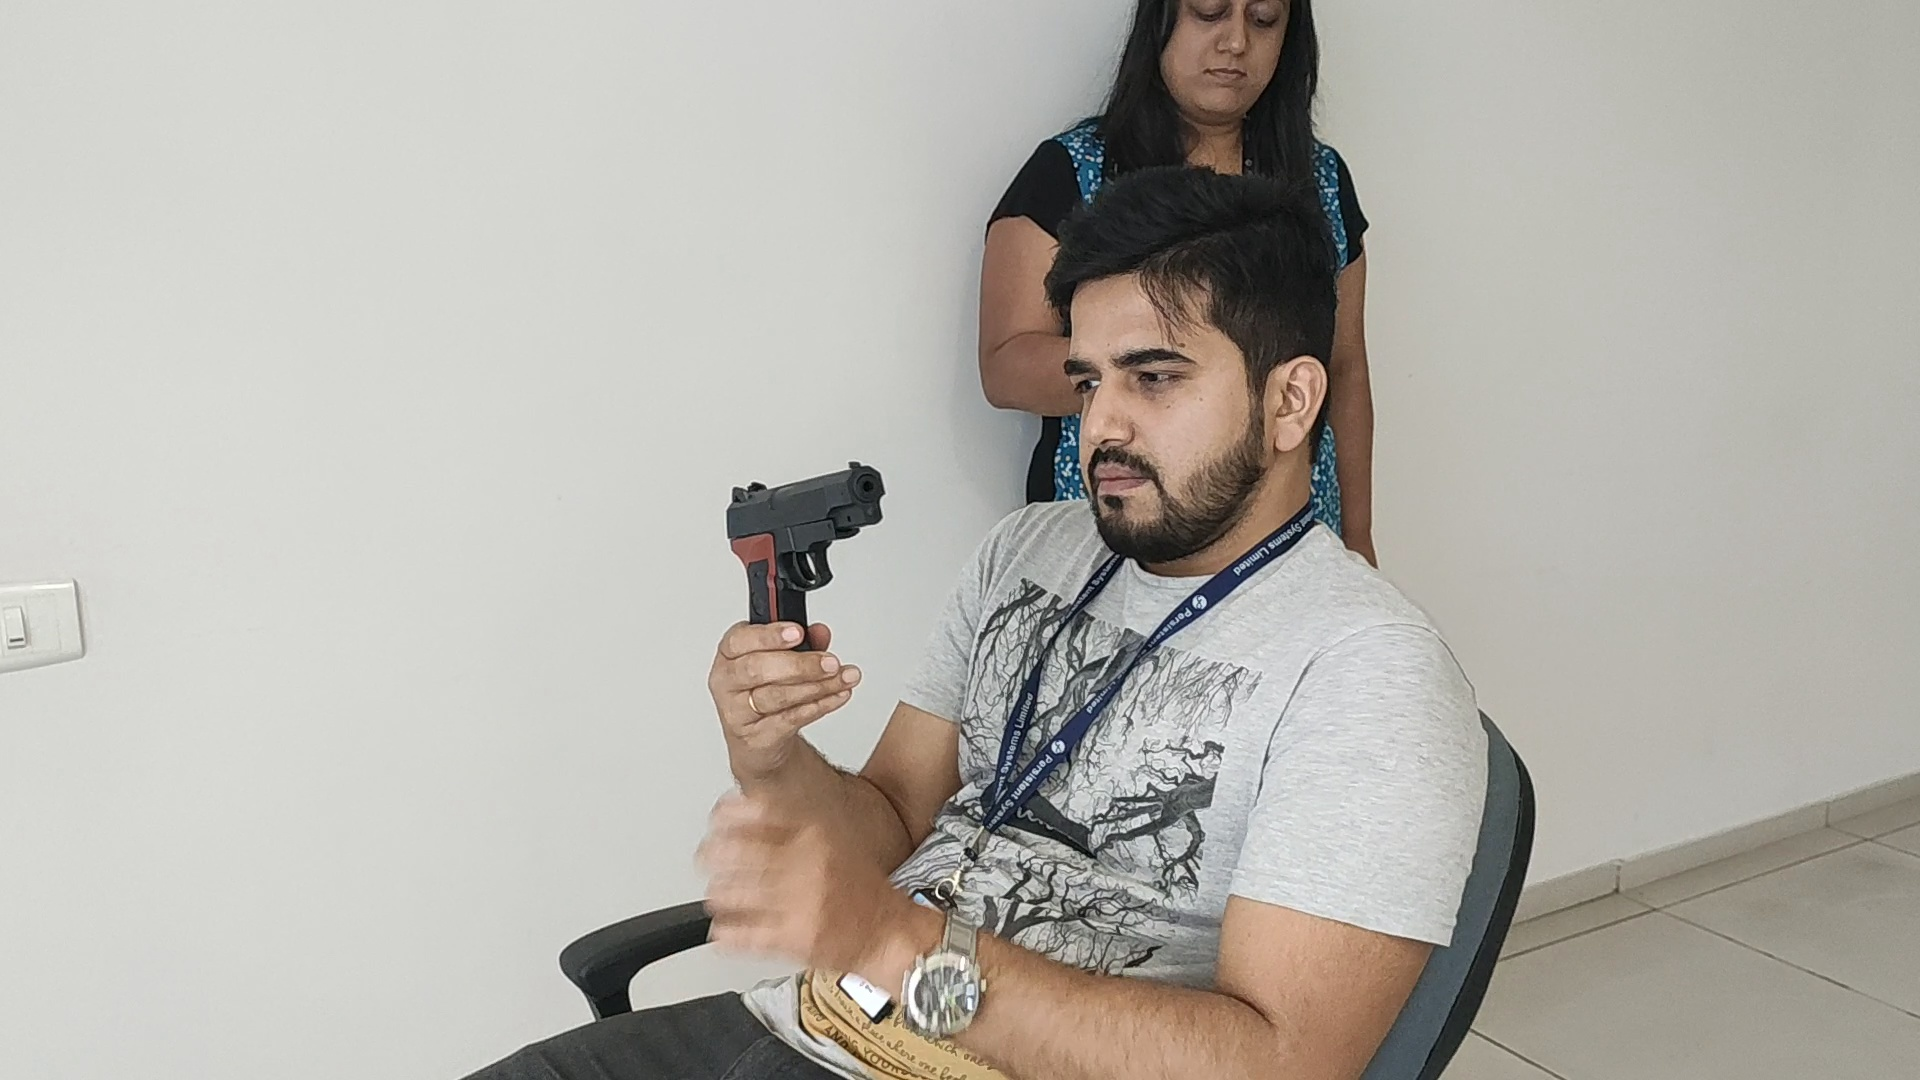gun: (720, 462, 884, 618)
